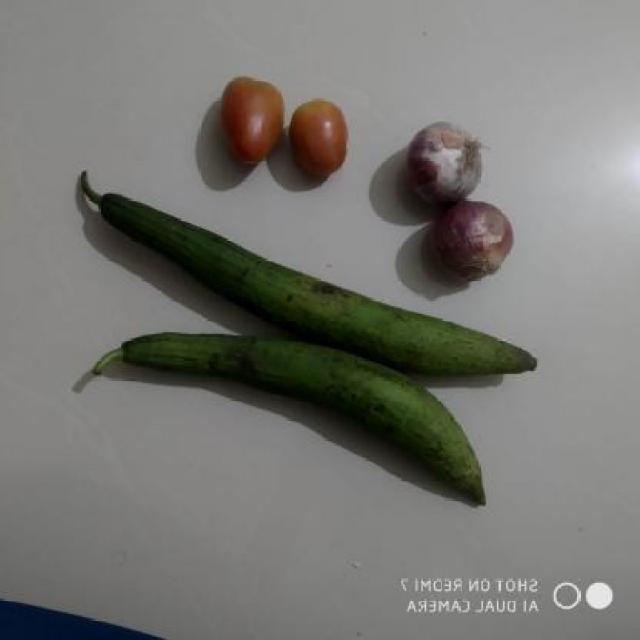Onion: (398, 122, 488, 205), (430, 200, 516, 286)
Sponge Gourd: (66, 297, 583, 514)
Tomato: (212, 72, 290, 166), (286, 86, 352, 179)
